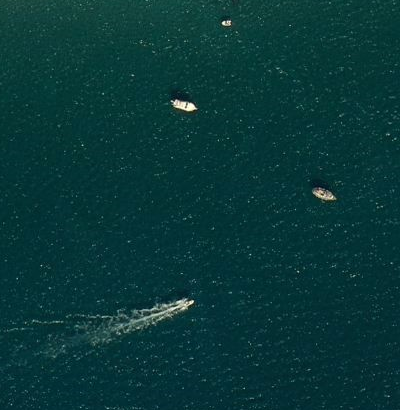ship: (168, 96, 202, 115), (309, 185, 339, 206), (173, 297, 200, 312), (220, 18, 234, 28)
